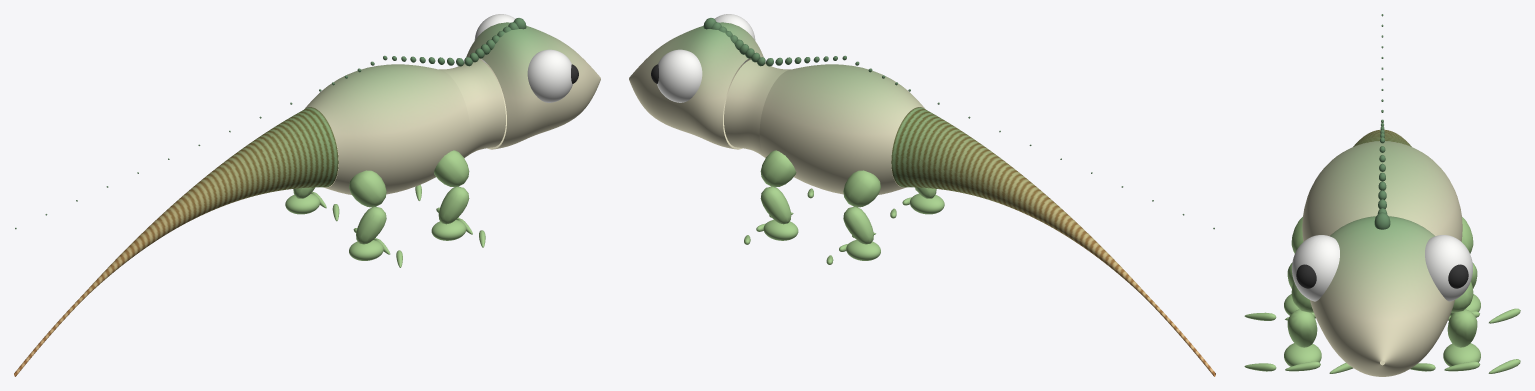
The model's file is chameleon.fbx.
The picture shows the model from 3 angles, left to right: view 1: azimuth 30°, elevation 25°; view 2: azimuth 150°, elevation 25°; view 3: azimuth 270°, elevation 25°; orthographic projection. The views are drawn at different scales.
Visible parts, largest first — view 1: Chameleon; view 2: Chameleon; view 3: Chameleon.
Boxes of the visible parts, left/top/right/bottom form: Chameleon: left=14, top=14, right=600, bottom=376; Chameleon: left=629, top=14, right=1215, bottom=376; Chameleon: left=1244, top=14, right=1520, bottom=376.
Size of the model in its own units: 6.37 by 2.45 by 2.08.
6 materials, 2 textured.
